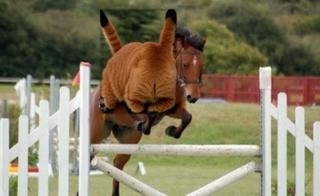cat: (100, 9, 176, 113)
horse: (77, 23, 213, 195)
